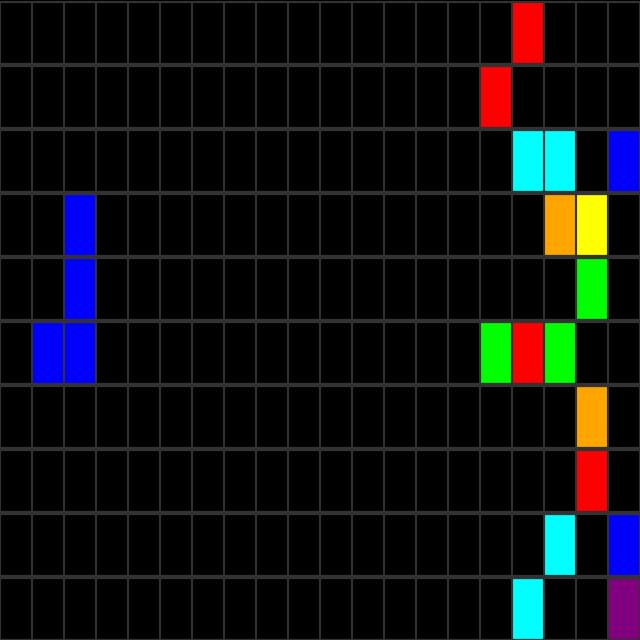Tetrimino_S: (32, 190, 94, 384)
